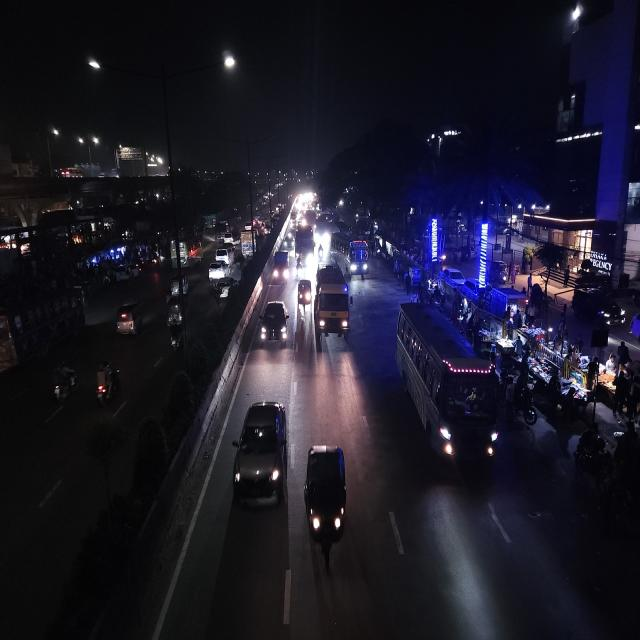bus: (393, 300, 502, 473), (0, 276, 86, 382), (328, 230, 370, 277), (294, 227, 316, 270), (175, 237, 203, 265)
car: (230, 396, 290, 511), (258, 296, 290, 350), (113, 297, 145, 340), (208, 259, 232, 280), (213, 246, 230, 262)
cng: (302, 439, 350, 564), (165, 293, 187, 336), (295, 276, 313, 317), (168, 274, 186, 297), (284, 231, 294, 253)
motorcycle: (505, 375, 540, 429), (93, 357, 120, 411), (50, 359, 78, 408), (317, 242, 325, 266)
rickshaw: (295, 276, 313, 319)
truck: (315, 270, 353, 346), (294, 226, 316, 270), (271, 251, 291, 285), (240, 231, 257, 255)
